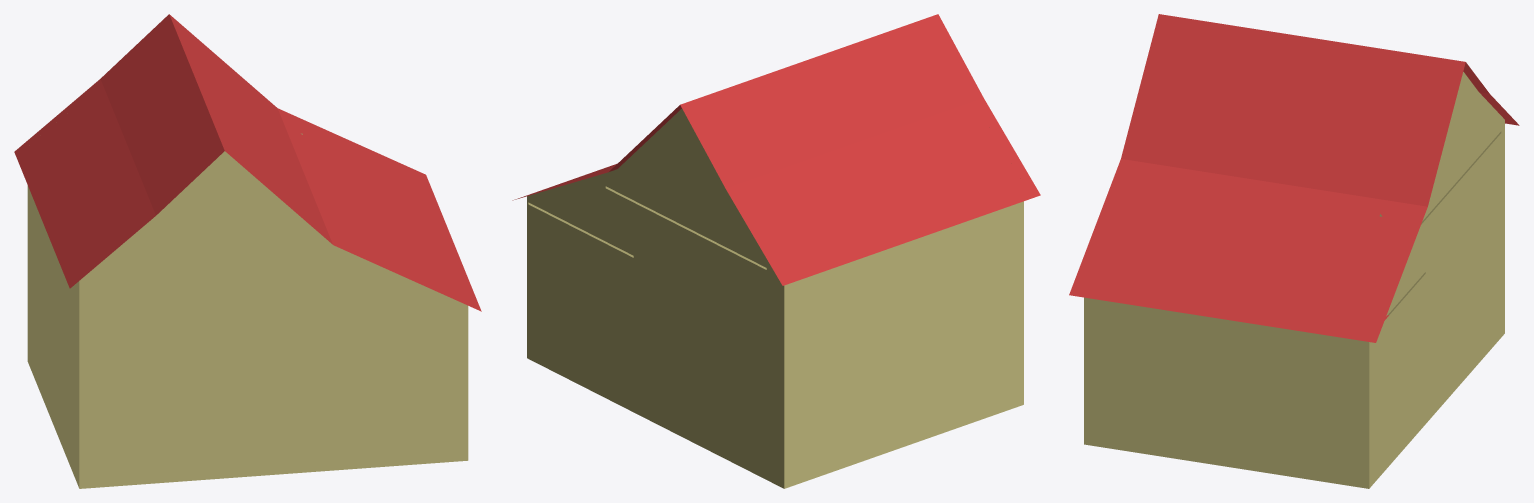
3 renders of one model, left to right at view 1: azimuth 30°, elevation 25°; view 2: azimuth 150°, elevation 25°; view 3: azimuth 270°, elevation 25°, orthographic. The views are drawn at different scales.
Bounding box in the file's own units: 21.64 × 19.39 × 15.68.
